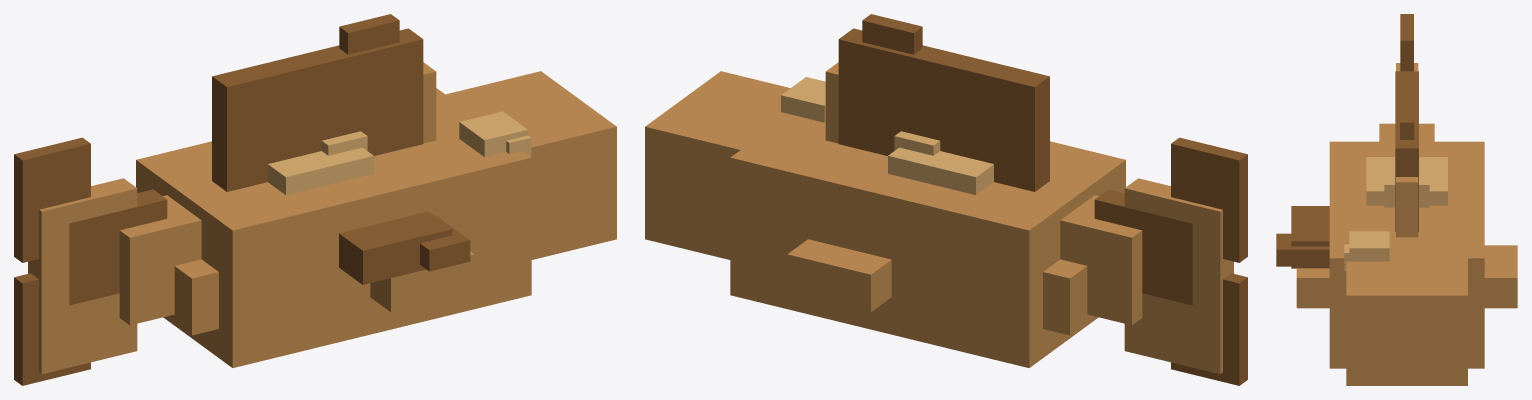
The model's file is fish_bronze_brine.glb.
3 views of the same model, side by side, from view 1: azimuth 30°, elevation 25°; view 2: azimuth 150°, elevation 25°; view 3: azimuth 270°, elevation 25° (orthographic). The views are drawn at different scales.
Parts seen in each view (by area): view 1: FishArt_body, FishArt_dorsal, FishArt_tail, FishArt_pectoral, FishArt_specialty, FishArt_eye; view 2: FishArt_body, FishArt_dorsal, FishArt_tail, FishArt_specialty, FishArt_eye; view 3: FishArt_body, FishArt_pectoral, FishArt_specialty, FishArt_dorsal, FishArt_eye, FishArt_tail.
Boxes of the visible parts, left/top/right/bottom form: FishArt_body: left=28, top=62, right=616, bottom=374; FishArt_dorsal: left=212, top=14, right=423, bottom=191; FishArt_tail: left=14, top=137, right=167, bottom=385; FishArt_pectoral: left=339, top=211, right=470, bottom=284; FishArt_specialty: left=268, top=131, right=373, bottom=194; FishArt_eye: left=459, top=111, right=531, bottom=156; FishArt_body: left=645, top=62, right=1233, bottom=374; FishArt_dorsal: left=838, top=14, right=1049, bottom=191; FishArt_tail: left=1094, top=137, right=1247, bottom=385; FishArt_specialty: left=888, top=131, right=993, bottom=194; FishArt_eye: left=781, top=77, right=825, bottom=122; FishArt_body: left=1296, top=63, right=1517, bottom=385; FishArt_pectoral: left=1276, top=206, right=1329, bottom=268; FishArt_specialty: left=1366, top=157, right=1447, bottom=207; FishArt_dorsal: left=1395, top=71, right=1418, bottom=231; FishArt_eye: left=1344, top=231, right=1389, bottom=270; FishArt_tail: left=1400, top=14, right=1413, bottom=71.
Bounding box in the file's own units: 0.3091 × 0.1442 × 0.1439.
